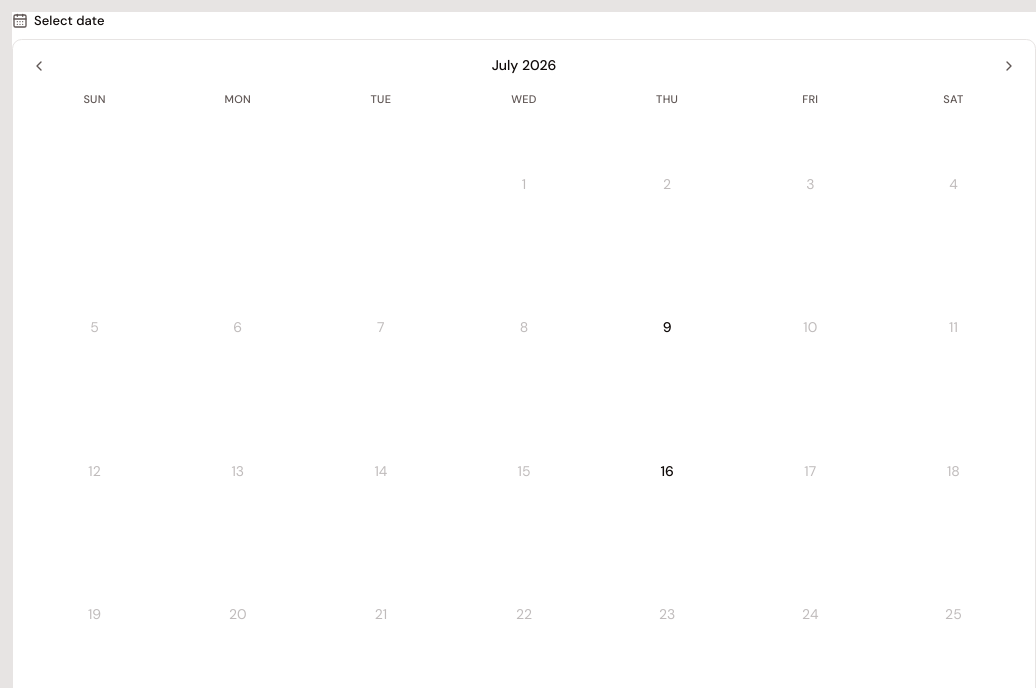
Test: BookingCalendar (date picker) › navigates to the next month
Click the button named "Next month" at [1009, 66], box [995,52,1023,80]
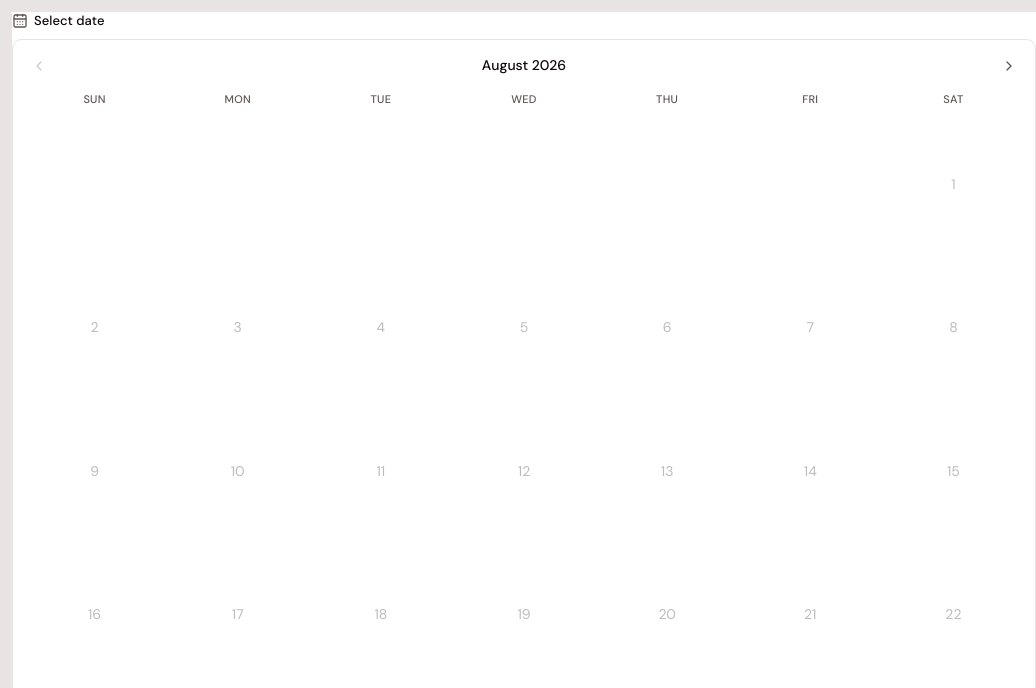
Expected: the button with test id "cal-day-2026-08-16" is disabled, [25,545,164,684]
Expected: the button with test id "cal-day-2026-07-16" is gone
